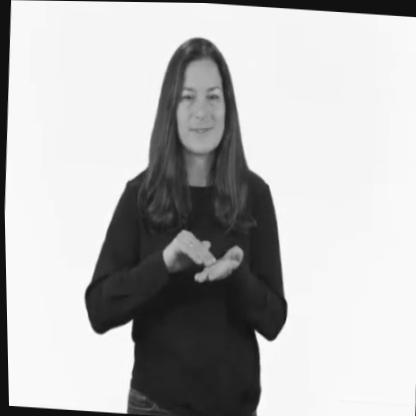ExcuseMe: (153, 207, 257, 301)
